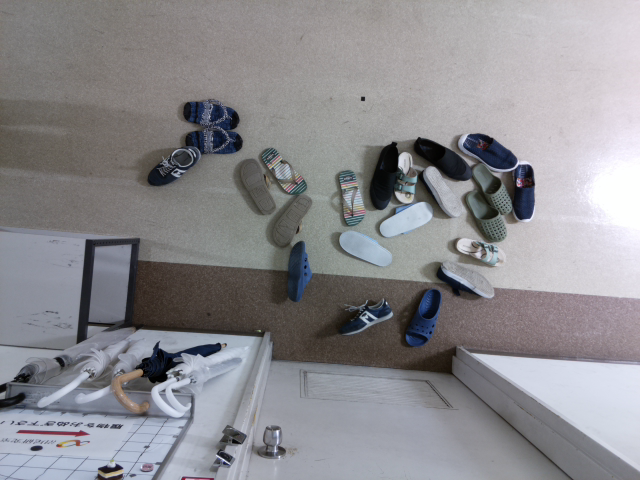Copy of Copy of Copy of Copy of Copy of Copy of Copy of sandal: (271, 193, 312, 247)
Copy of Copy of Copy of Copy of Copy of Copy of sandal: (239, 158, 276, 214)
Copy of Copy of Copy of Copy of Copy of Copy of shoes: (435, 260, 494, 298)
Copy of Copy of Copy of Copy of Copy of sandal: (454, 236, 505, 266)
Copy of Copy of Copy of Copy of Copy of shoes: (338, 297, 393, 336)
Copy of Copy of Copy of Copy of sandal: (394, 151, 417, 204)
Copy of Copy of Copy of Copy of shoes: (369, 140, 398, 210)
Copy of Copy of Copy of Copy of slipper: (464, 190, 507, 242)
Copy of Copy of Copy of sandal: (337, 169, 366, 226)
Copy of Copy of Copy of shoes: (415, 136, 472, 180)
Copy of Copy of Copy of slipper: (470, 162, 511, 215), (405, 288, 441, 347)
Copy of Copy of sandal: (260, 147, 307, 194)
Copy of Copy of shoes: (418, 166, 463, 218), (511, 162, 536, 222)
Copy of Copy of slipper: (285, 240, 312, 302)
Copy of sandal: (185, 126, 242, 154)
Copy of shoes: (458, 132, 519, 172)
Copy of slipper: (378, 201, 433, 237)
sandal: (183, 98, 240, 130)
shoes: (147, 146, 201, 186)
slipper: (338, 229, 392, 267)
